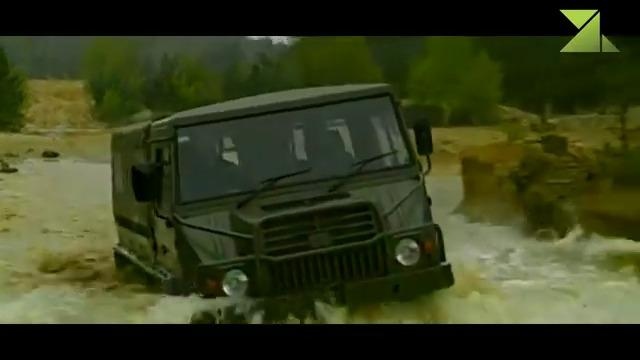MIL_HMMWV: (110, 80, 455, 323)
